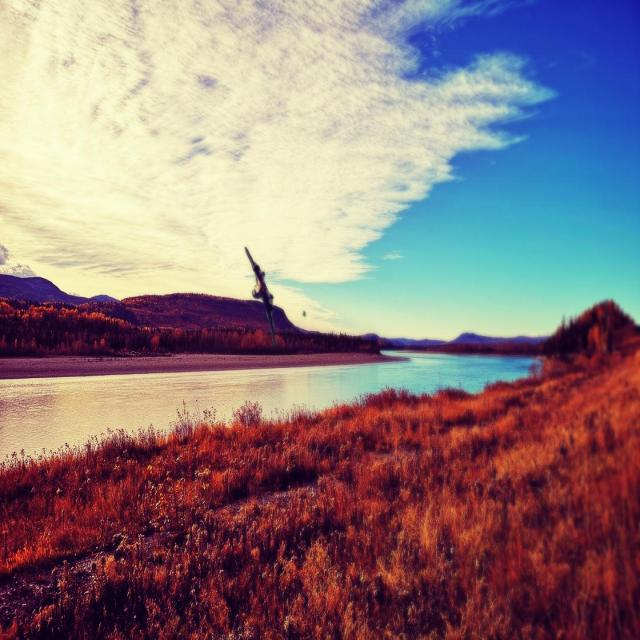airplane: (242, 242, 280, 341)
